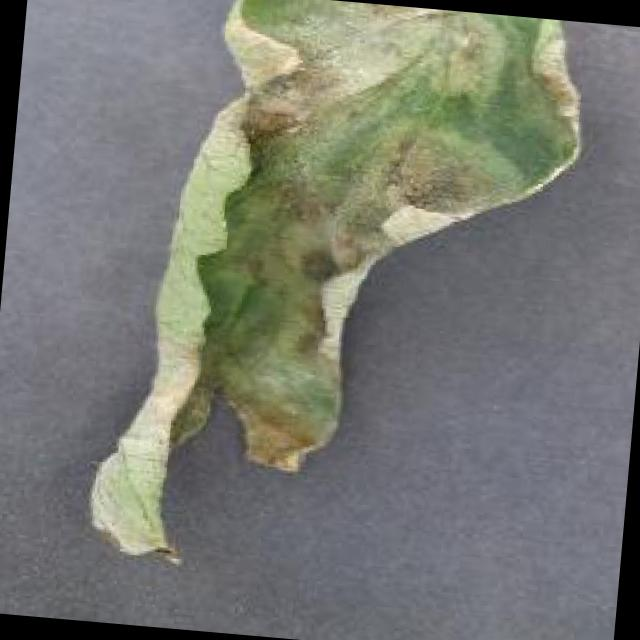Tomato_Late_Blight: (64, 0, 606, 601)
